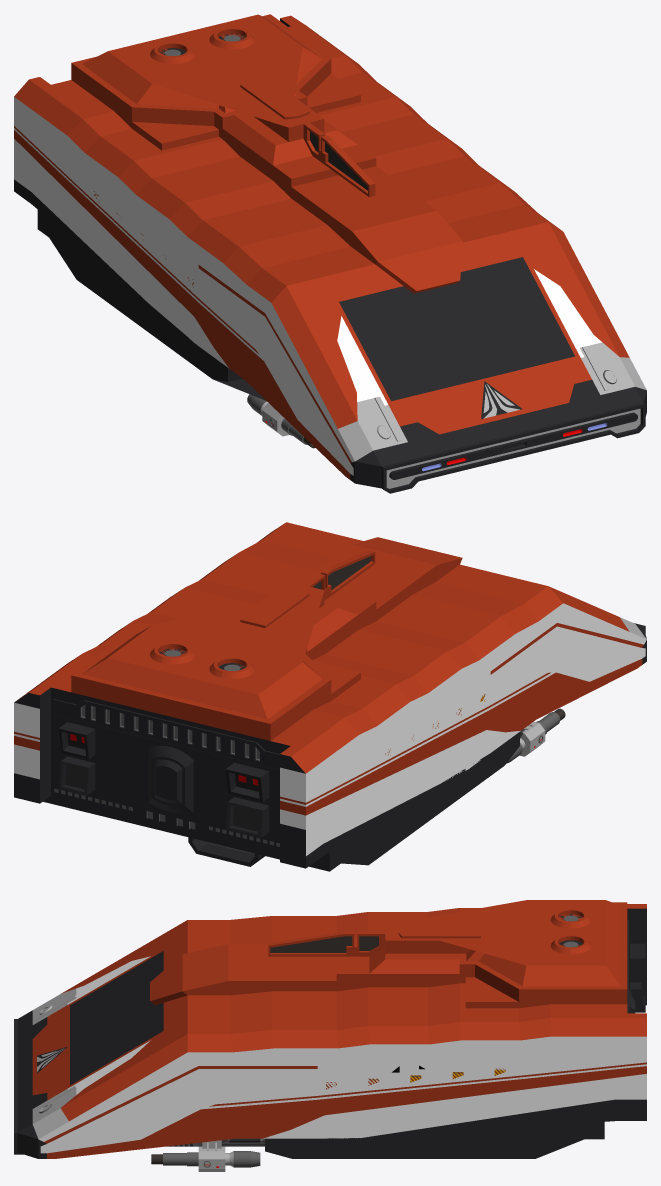
The model's file is Starspeeder+1000.fbx.
The picture shows the model from 3 angles, top to bottom: view 1: azimuth 30°, elevation 25°; view 2: azimuth 150°, elevation 25°; view 3: azimuth 270°, elevation 25°; orthographic projection. The views are drawn at different scales.
Visible parts, largest first — view 1: Model, Group1; view 2: Model, Group3, Group1; view 3: Model, Group2.
Boxes of the visible parts, x1=… form: Model: x1=14, y1=14, x2=646, y2=493; Group1: x1=247, y1=394, x2=314, y2=448; Model: x1=14, y1=522, x2=646, y2=871; Group3: x1=148, y1=745, x2=193, y2=813; Group1: x1=506, y1=708, x2=565, y2=763; Model: x1=14, y1=900, x2=646, y2=1158; Group2: x1=151, y1=1140, x2=260, y2=1171.
Bounding box in the file's own units: 401 × 286 × 845.
